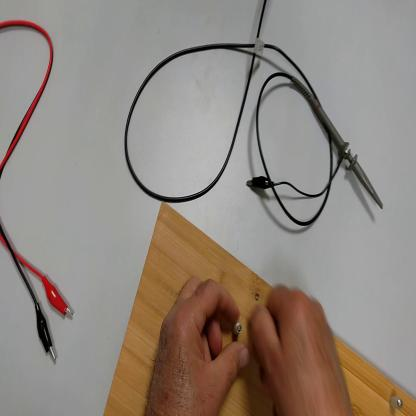hand: (146, 277, 250, 412), (249, 284, 351, 414)
oscilloscope probe tip: (291, 75, 386, 208)
working area: (105, 201, 416, 416)
